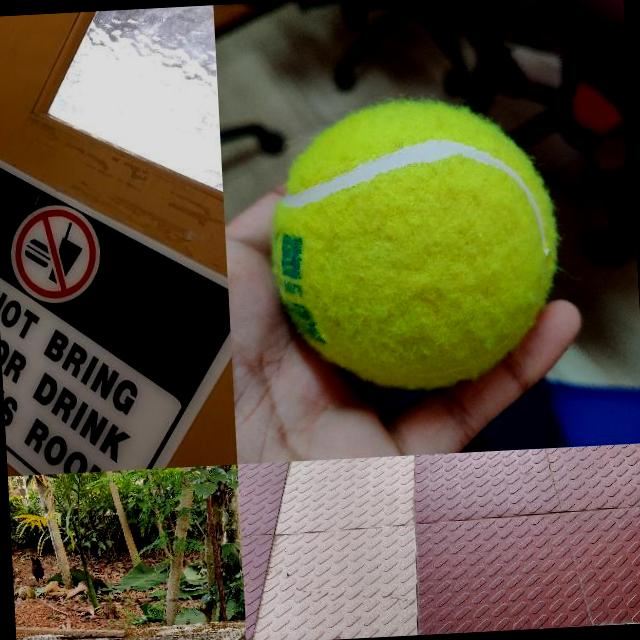Tennis Ball: (264, 95, 562, 396)
